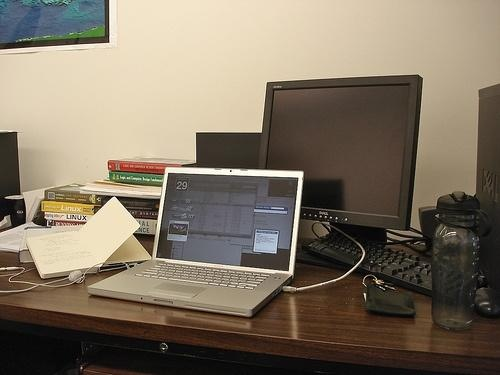bottle: (429, 185, 488, 336)
tvmonitor: (256, 72, 426, 234)
